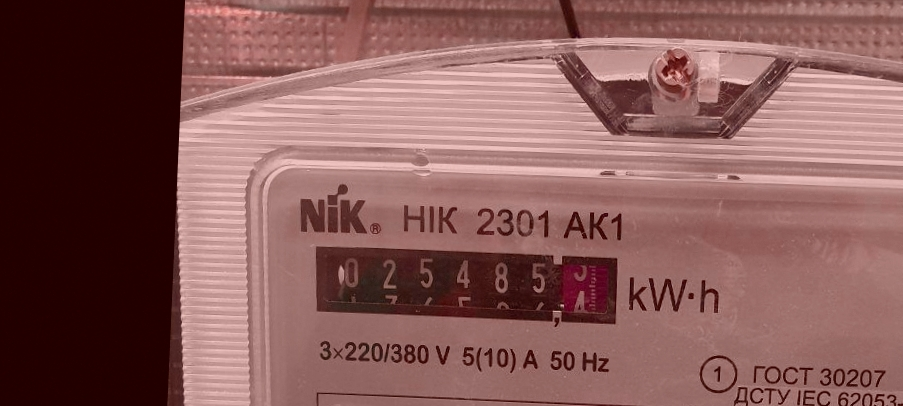0: (339, 254, 362, 290)
2: (378, 256, 400, 291)
4: (451, 256, 474, 291), (569, 287, 590, 316)
5: (526, 259, 549, 297), (414, 254, 436, 290)
8: (490, 258, 512, 296)
screen: (303, 236, 627, 336)
